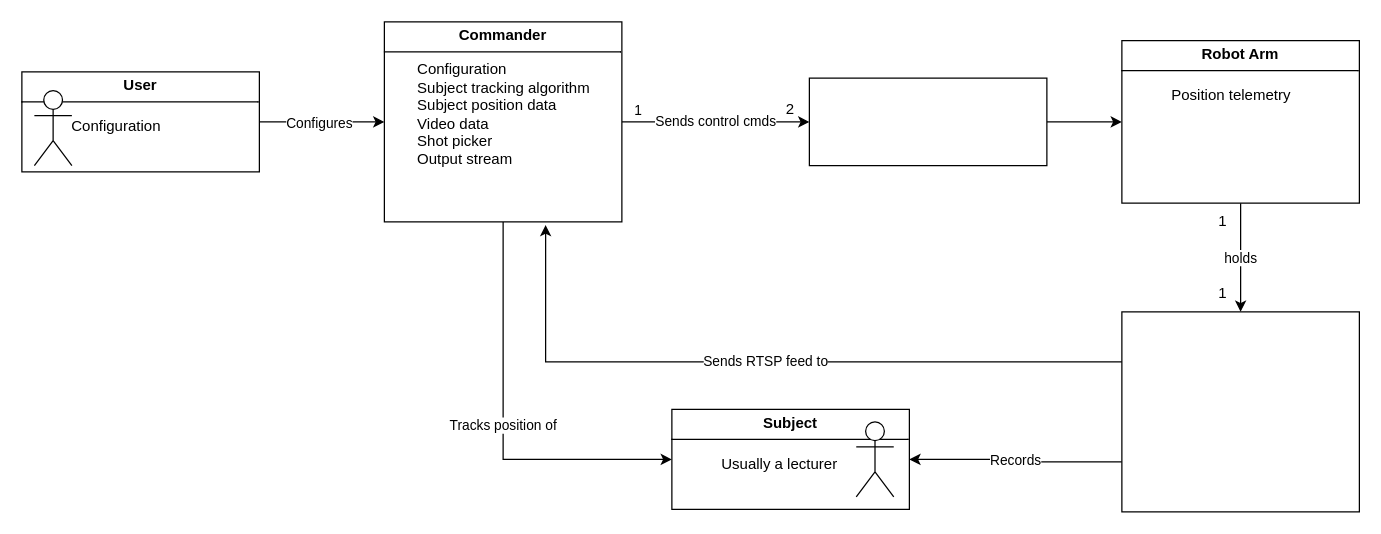
This 1381x534 diagram has some shape labels left out. Here are the shapes that lost their labels. From the top down, the centre of each, then its label:
At (927,121): "Operator".
At (1240,411): "Camera Video stream".
